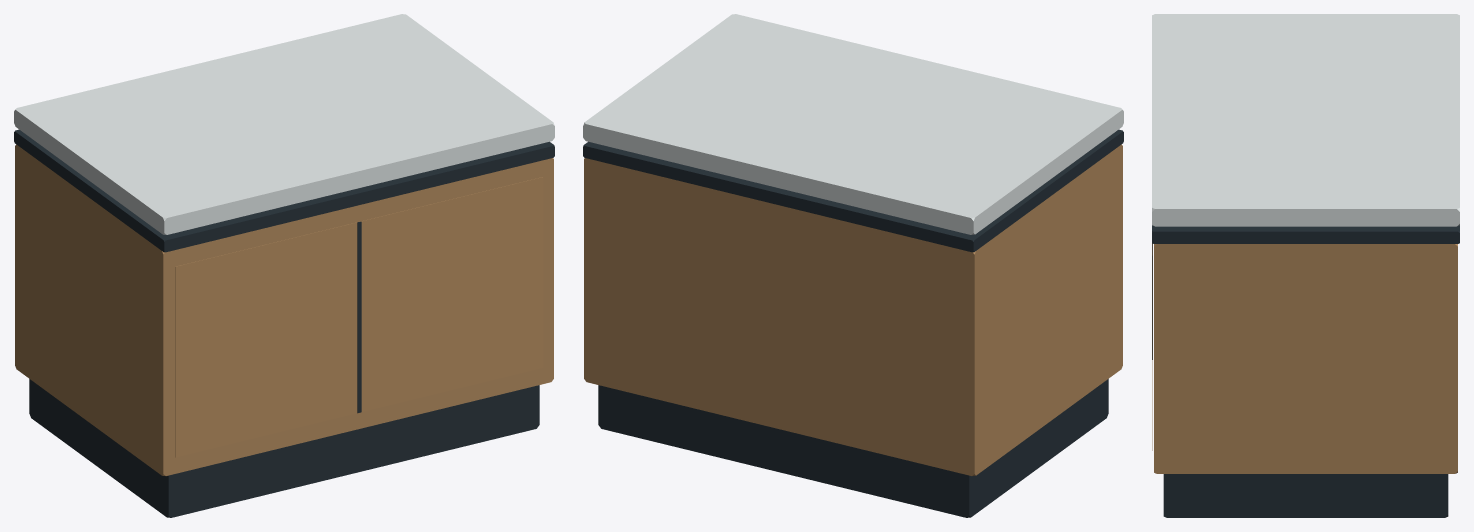
File: FrontCounter.glb
The picture shows the model from 3 angles, left to right: view 1: azimuth 30°, elevation 25°; view 2: azimuth 150°, elevation 25°; view 3: azimuth 270°, elevation 25°; orthographic projection. The views are drawn at different scales.
Visible parts, largest first — view 1: FrontCounter; view 2: FrontCounter; view 3: FrontCounter.
Part boxes in pixels (bbox=[...]): FrontCounter: bbox=[14, 14, 554, 517]; FrontCounter: bbox=[583, 14, 1123, 517]; FrontCounter: bbox=[1152, 14, 1459, 517].
Size of the model in its own units: 1.2 by 0.9 by 0.8.
